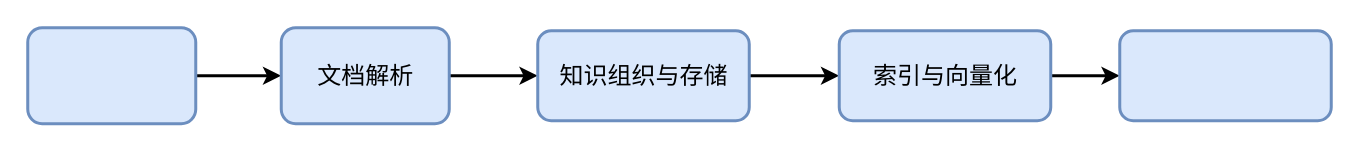
This 1358x150 diagram has some shape labels left out. Here are the shapes that lost their labels. From the top down, the centre of each, then its label:
At pixel 111 75: "知识源分析与数据收集".
At pixel 1225 75: "质量保证机制".
